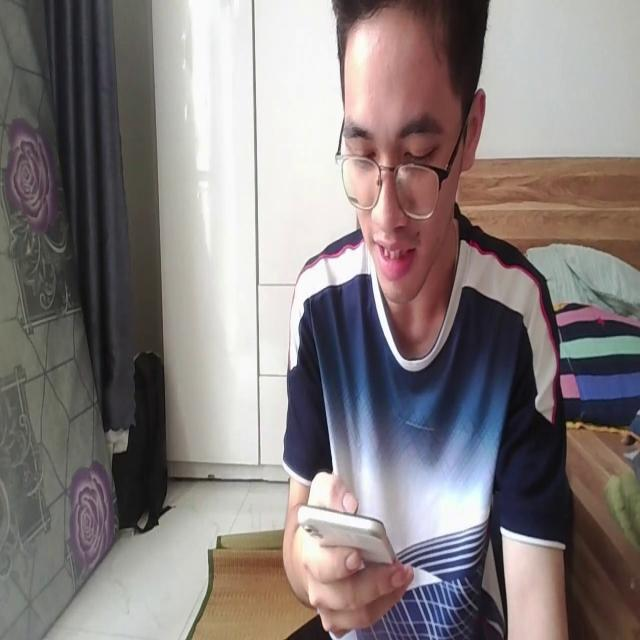phone: (294, 488, 407, 583)
student: (280, 2, 572, 640)
